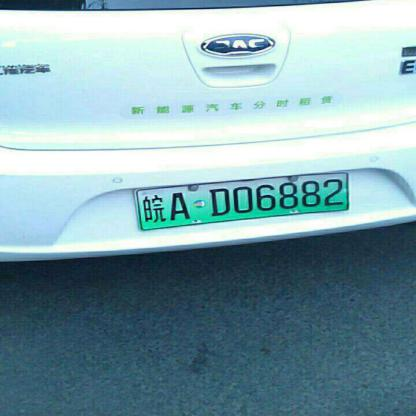lp: (135, 172, 348, 229)
